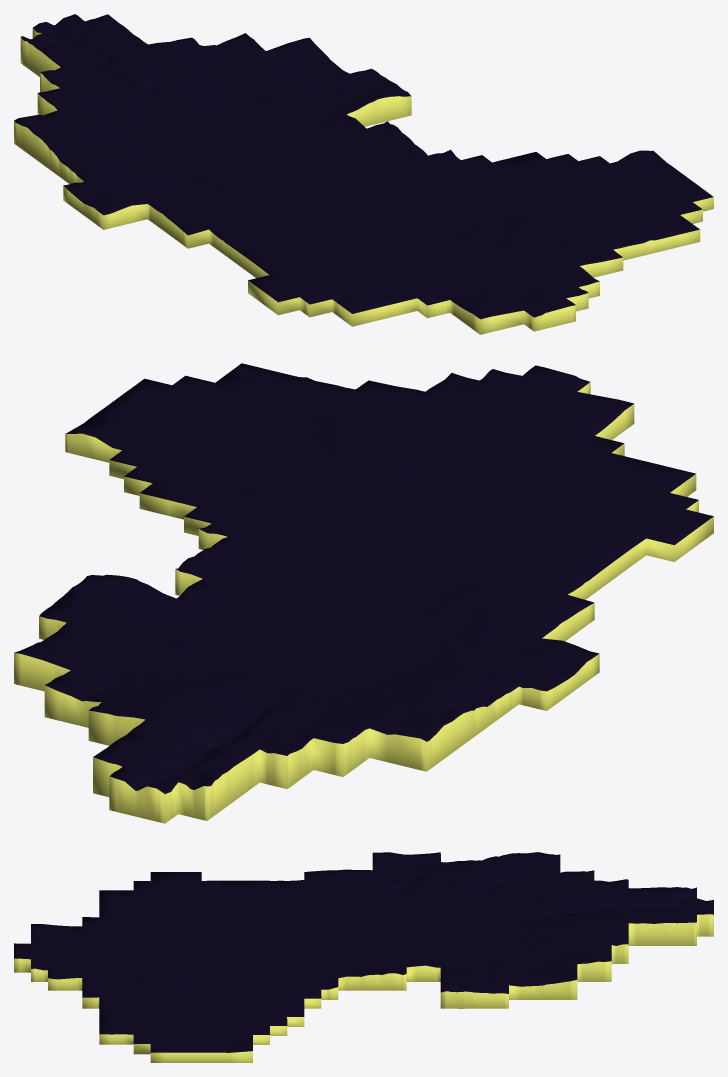
The model's file is lowpolinz_3_mulitmat.glb.
The picture shows the model from 3 angles, top to bottom: view 1: azimuth 30°, elevation 25°; view 2: azimuth 150°, elevation 25°; view 3: azimuth 270°, elevation 25°; orthographic projection. The views are drawn at different scales.
Parts seen in each view (by area): view 1: lolo.001; view 2: lolo.001; view 3: lolo.001.
Boxes of the visible parts, box(x1,y1,x2,y2) form: lolo.001: box(14, 14, 713, 334); lolo.001: box(14, 363, 713, 823); lolo.001: box(14, 852, 713, 1062).
Size of the model in its own units: 13719 by 759 by 20501.
